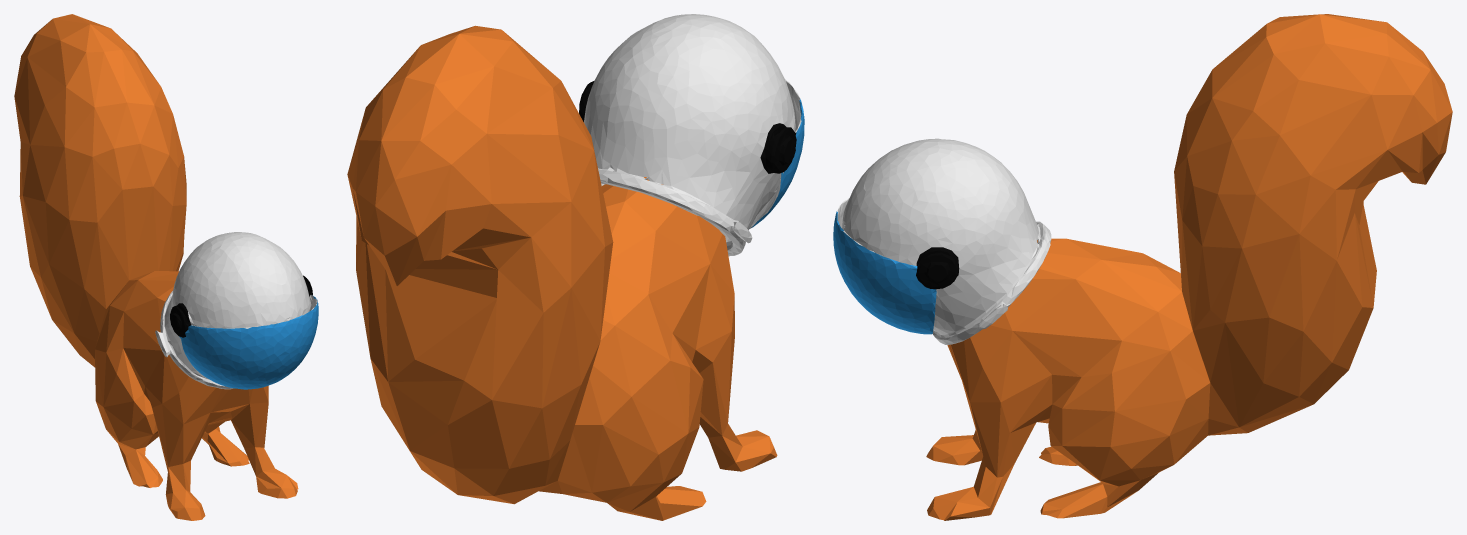
The model's file is Squantum Explorer.fbx.
The picture shows the model from 3 angles, left to right: view 1: azimuth 30°, elevation 25°; view 2: azimuth 150°, elevation 25°; view 3: azimuth 270°, elevation 25°; orthographic projection. The views are drawn at different scales.
Parts seen in each view (by area): view 1: Low Poly Squirrel, AstroHelmet; view 2: Low Poly Squirrel, AstroHelmet; view 3: Low Poly Squirrel, AstroHelmet.
Part boxes in pixels (x1,y1,x2,y2): Low Poly Squirrel: [14, 14, 298, 520]; AstroHelmet: [155, 232, 318, 389]; Low Poly Squirrel: [347, 25, 777, 520]; AstroHelmet: [579, 14, 804, 256]; Low Poly Squirrel: [926, 14, 1452, 520]; AstroHelmet: [833, 138, 1051, 344].
Bounding box in the file's own units: 161 × 408 × 487.
